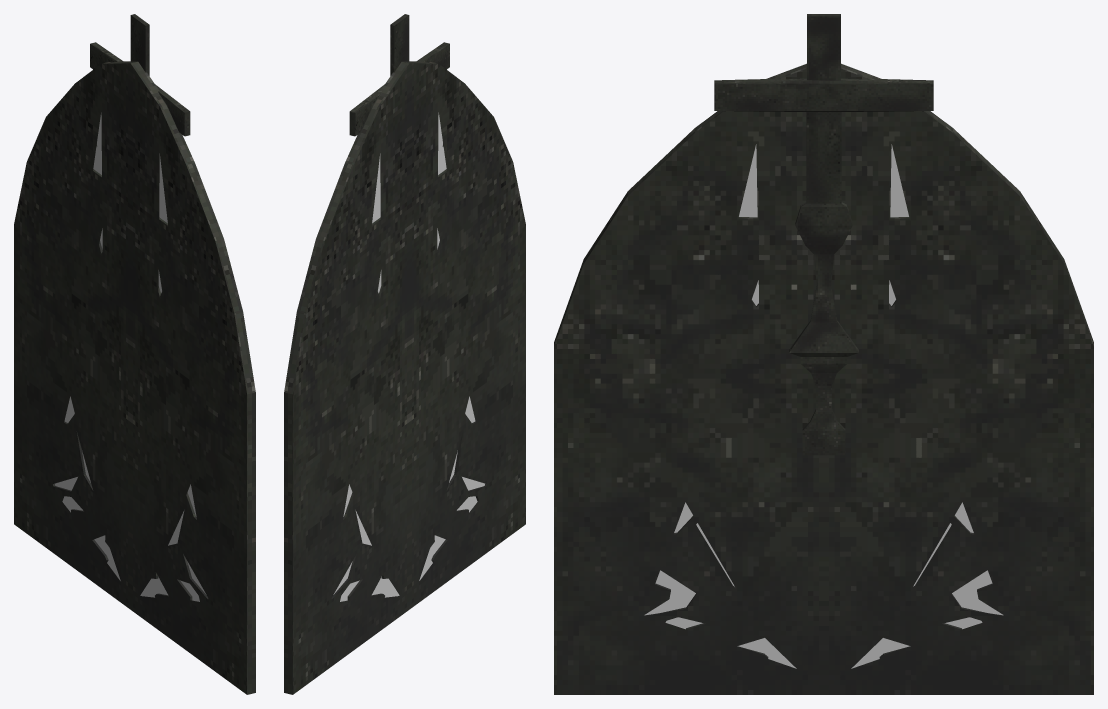
File: bigdoor 1.fbx
3 renders of one model, left to right at view 1: azimuth 30°, elevation 25°; view 2: azimuth 150°, elevation 25°; view 3: azimuth 270°, elevation 25°, orthographic. The views are drawn at different scales.
Parts seen in each view (by area): view 1: Cube.002; view 2: Cube.002; view 3: Cube.002.
Part boxes in pixels (x1,y1,x2,y2): Cube.002: (14, 14, 255, 694); Cube.002: (284, 14, 525, 694); Cube.002: (554, 14, 1093, 694).
Bounding box in the file's own units: 56.96 × 2290 × 1647.
